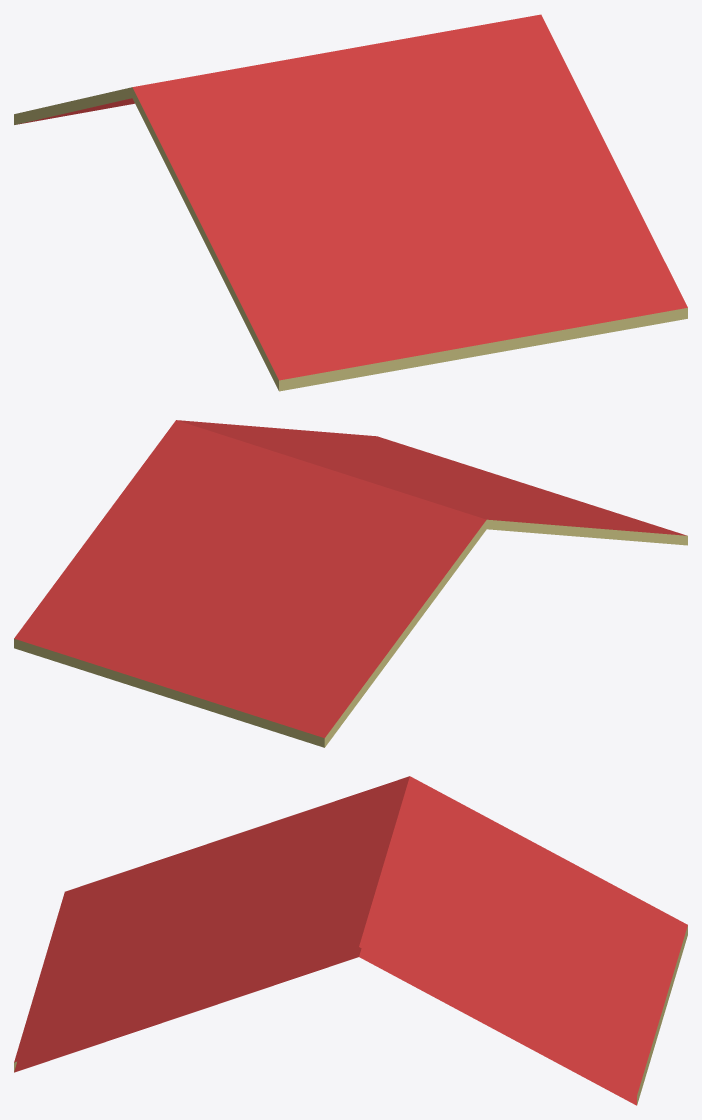
3 renders of one model, top to bottom at view 1: azimuth 30°, elevation 25°; view 2: azimuth 150°, elevation 25°; view 3: azimuth 270°, elevation 25°, orthographic. The views are drawn at different scales.
Size of the model in its own units: 4.33 by 6.05 by 1.43.
